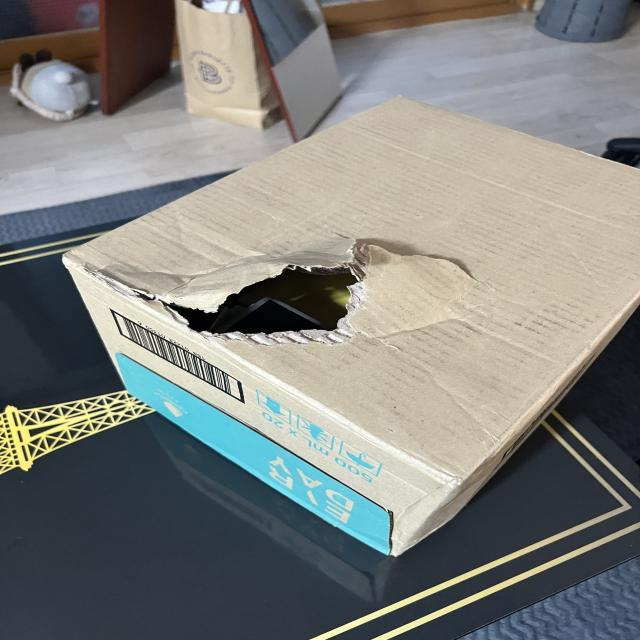box: (61, 94, 640, 558)
tear: (69, 239, 478, 345)
